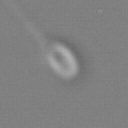normal: (2, 1, 49, 47)
